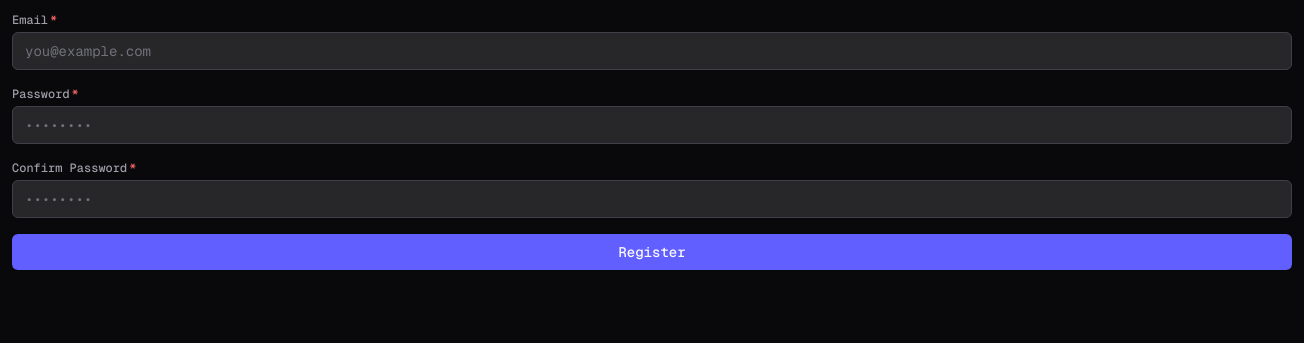
Test: RegisterForm › shows error when password has no lowercase letter
Type "test@test.com" into the field labelled "Email*" at (652, 51), box top-left (12, 32), bottom-right (1292, 70)
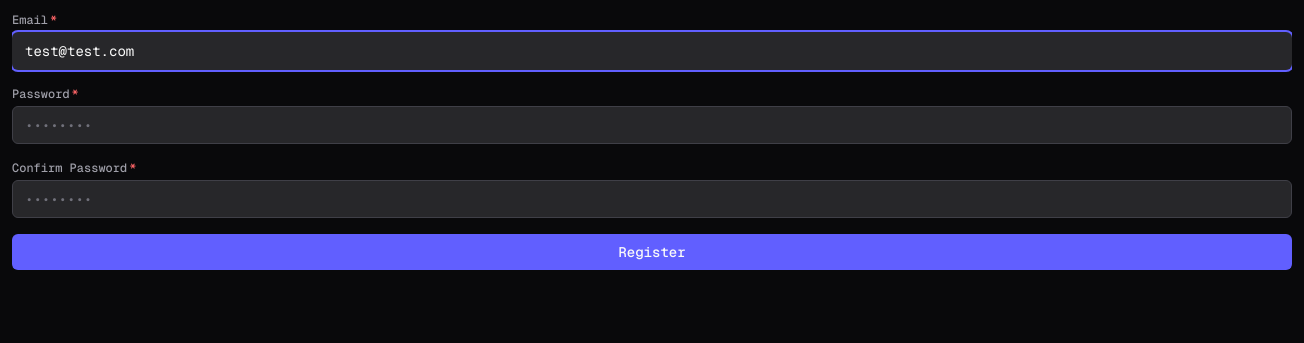
Type "PASSWORD1!" into the password field labelled "Password*" at (652, 125), box top-left (12, 106), bottom-right (1292, 144)
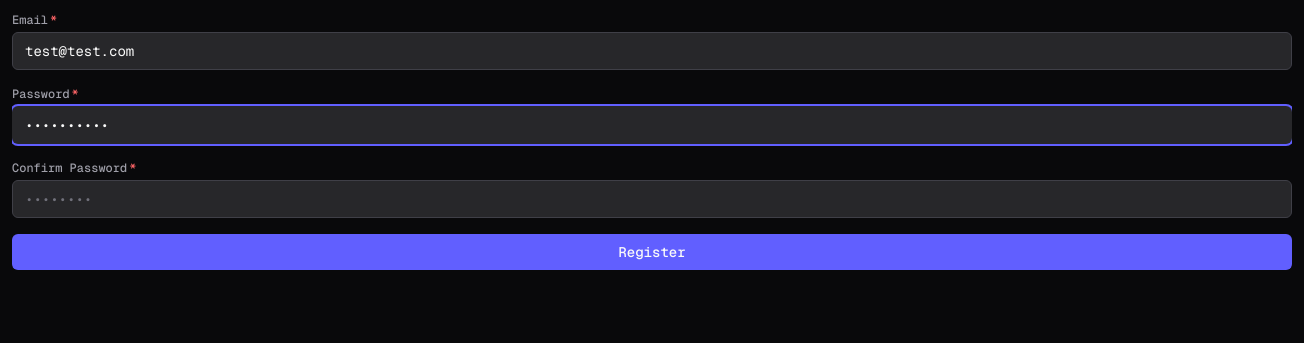
Type "PASSWORD1!" into the password field labelled "Confirm Password*" at (652, 199), box top-left (12, 180), bottom-right (1292, 218)
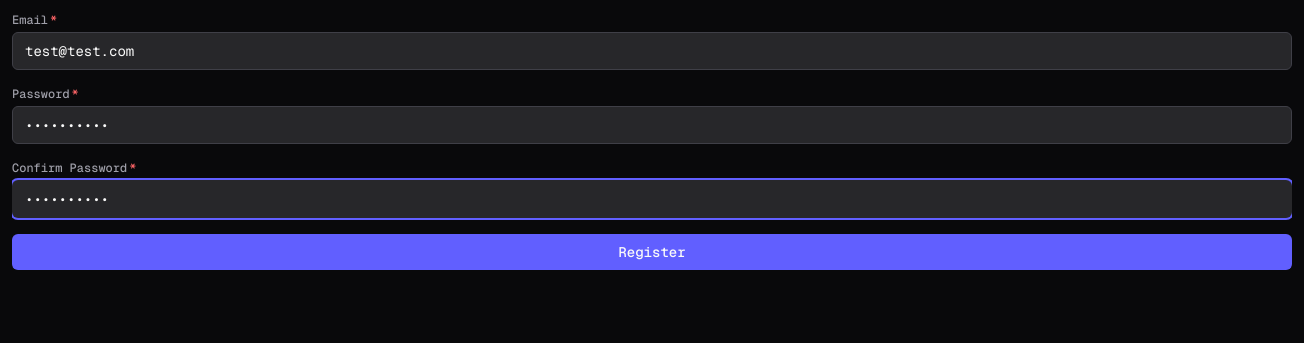
Click the button "Register" at (652, 252), box top-left (12, 234), bottom-right (1292, 270)
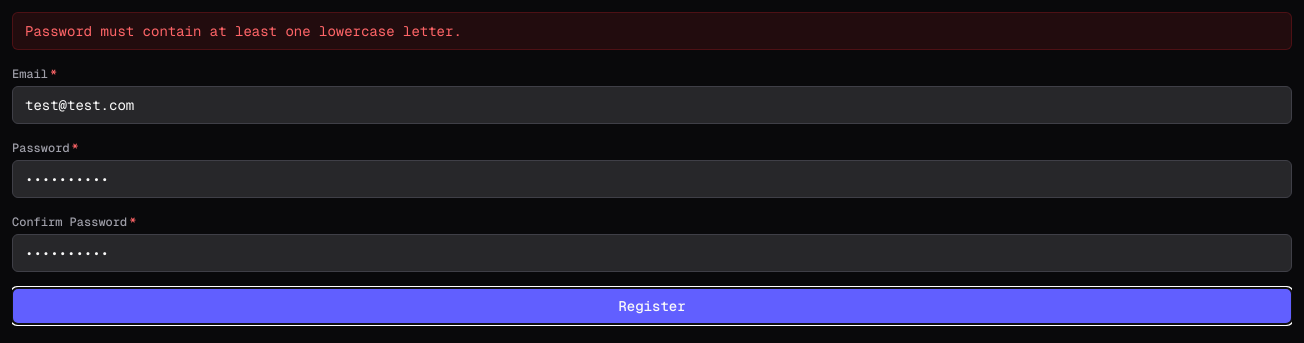
Expected: the text "Password must contain at least one lowercase letter." is shown, top-left (12, 12), bottom-right (1292, 50)
